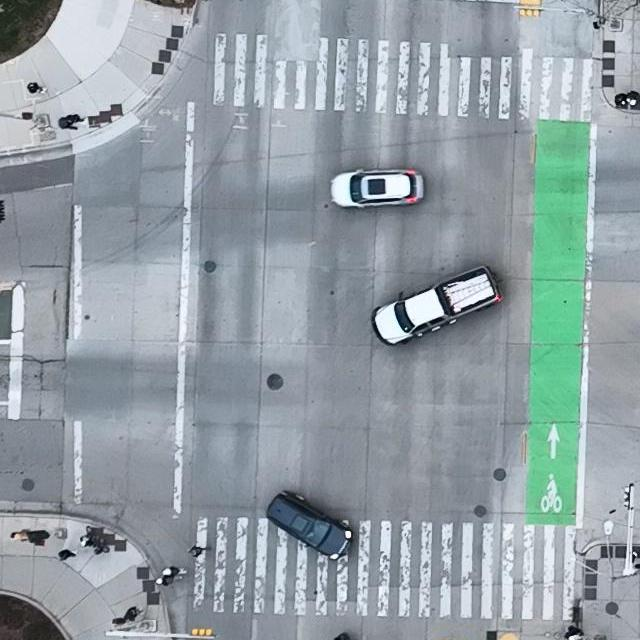car: (372, 264, 504, 346), (266, 490, 356, 560), (329, 168, 426, 209)
